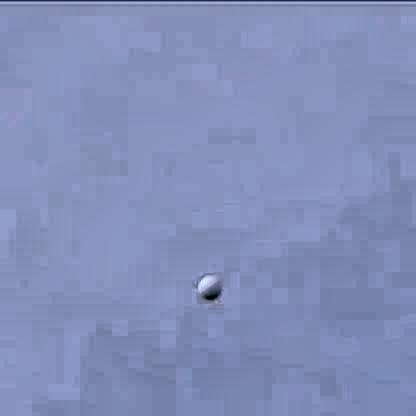golfball: (195, 267, 219, 297)
